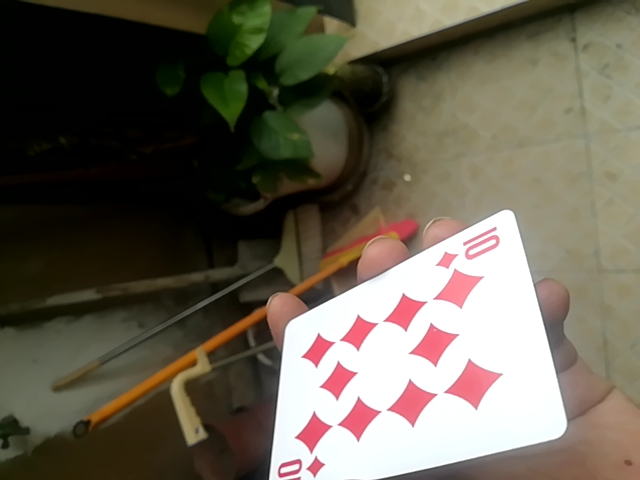fk 10: (266, 213, 559, 480)
